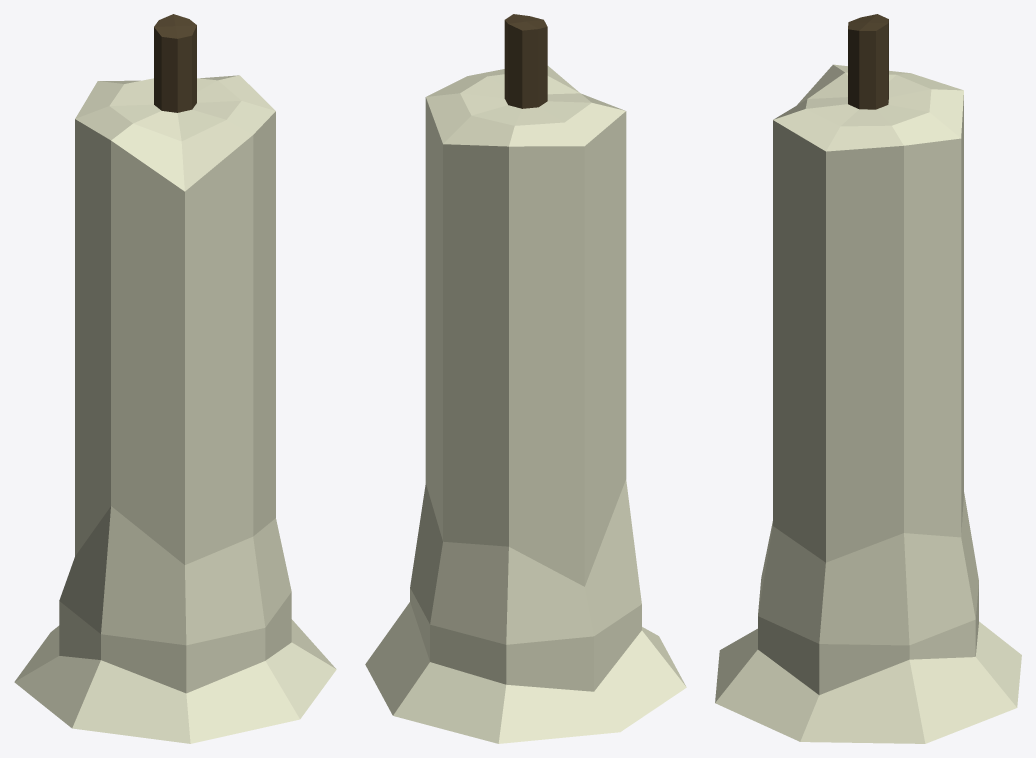
File: Candle_A.fbx
3 views of the same model, side by side, from view 1: azimuth 30°, elevation 25°; view 2: azimuth 150°, elevation 25°; view 3: azimuth 270°, elevation 25° (orthographic).
Parts seen in each view (by area): view 1: Cylinder.004; view 2: Cylinder.004; view 3: Cylinder.004.
Part boxes in pixels (<box>): Cylinder.004: <box>14,14,336,743</box>; Cylinder.004: <box>365,14,686,743</box>; Cylinder.004: <box>715,14,1021,743</box>.
Bounding box in the file's own units: 179 × 425 × 179.
